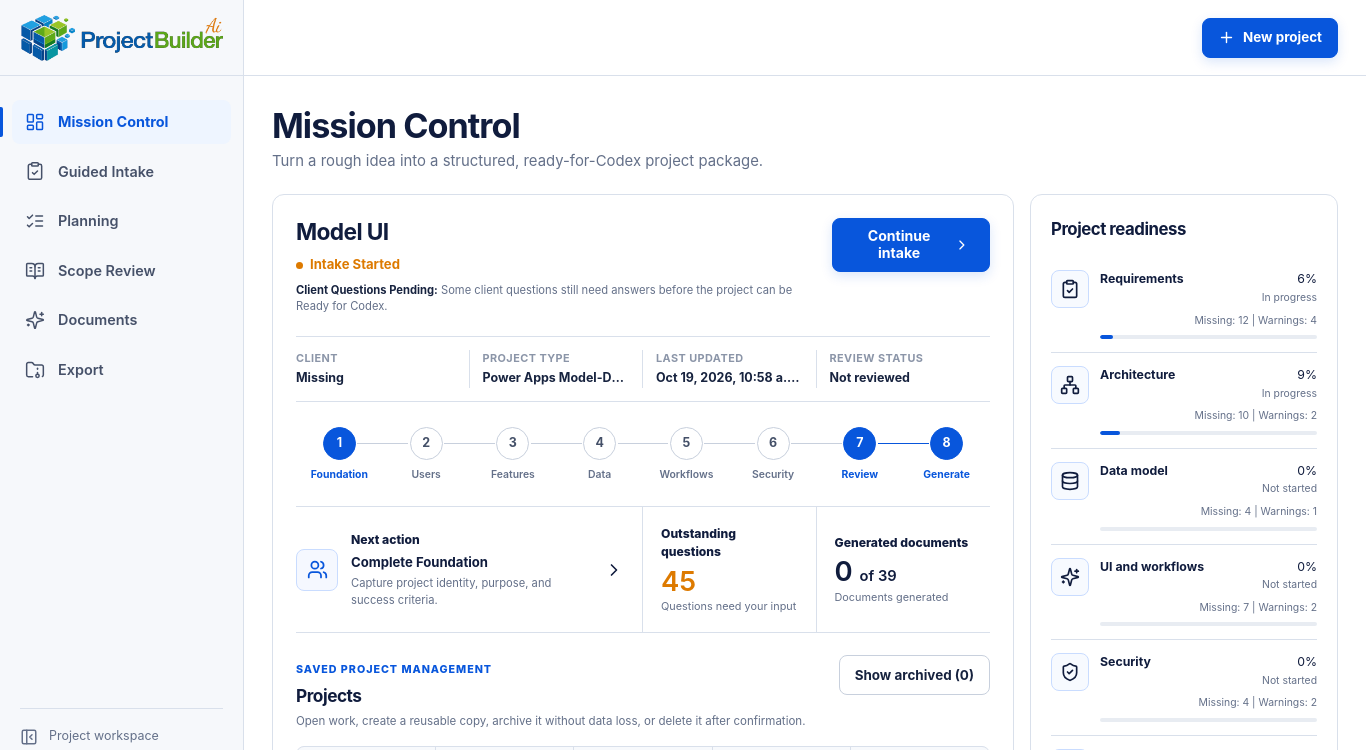
Scenario: App - power Platform Model Driven › shows model-driven Power Platform schema and solution intake
Click the button "4 Data" at point(600, 454), box [556,426,643,482]
(page scrolled)
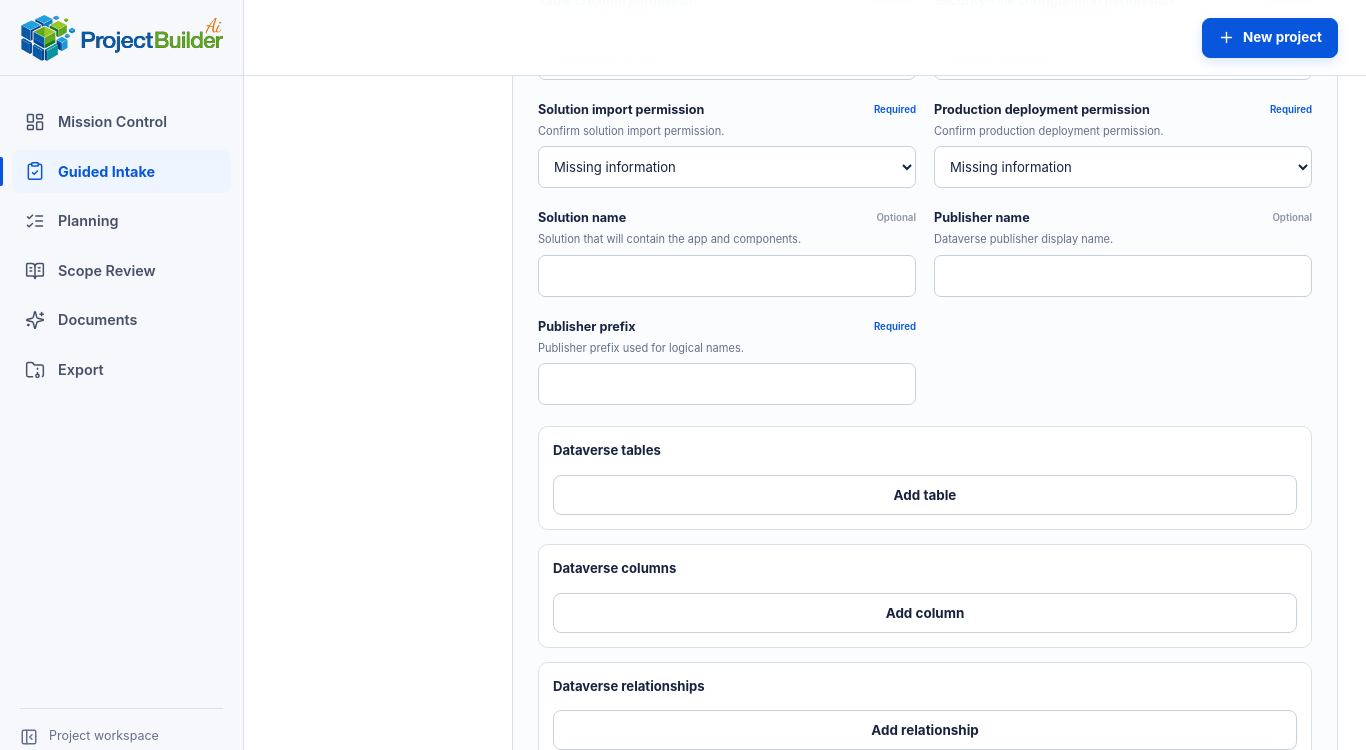
Now the button "Add table" is shown, box [553,475,1297,515]
Now the field labelled "Publisher prefix Required" is shown, box [538,363,916,405]
